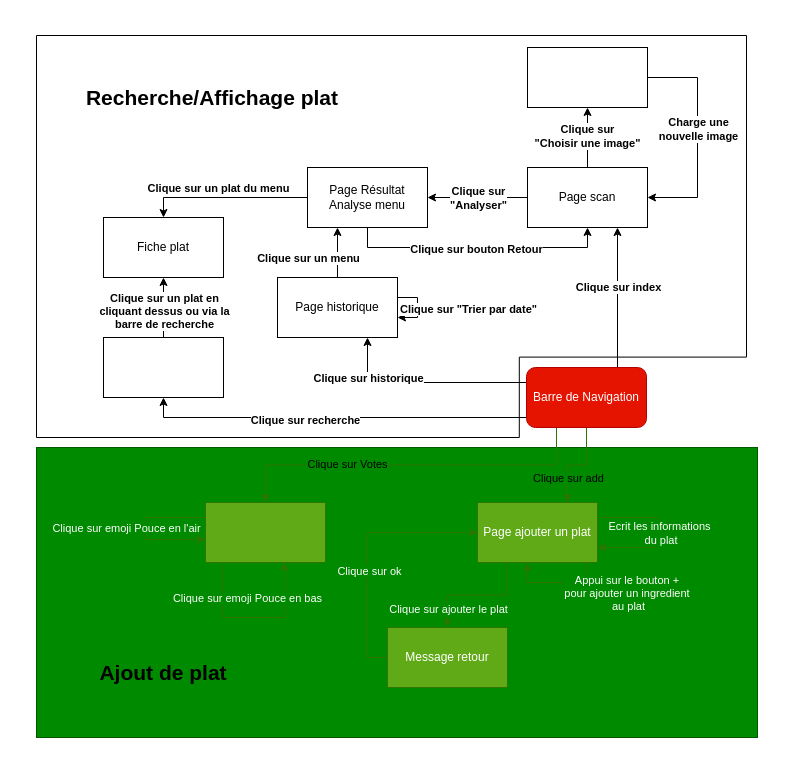
This 795x775 diagram has some shape labels left out. The shapes that lost their labels are listed below. From the top down, each one's box as (x1, y1, x2, y2) in pixels, then its label:
(526, 46, 648, 108): Menu de choix d'image
(102, 336, 224, 398): Page Recherche
(204, 502, 326, 562): Page Votes
